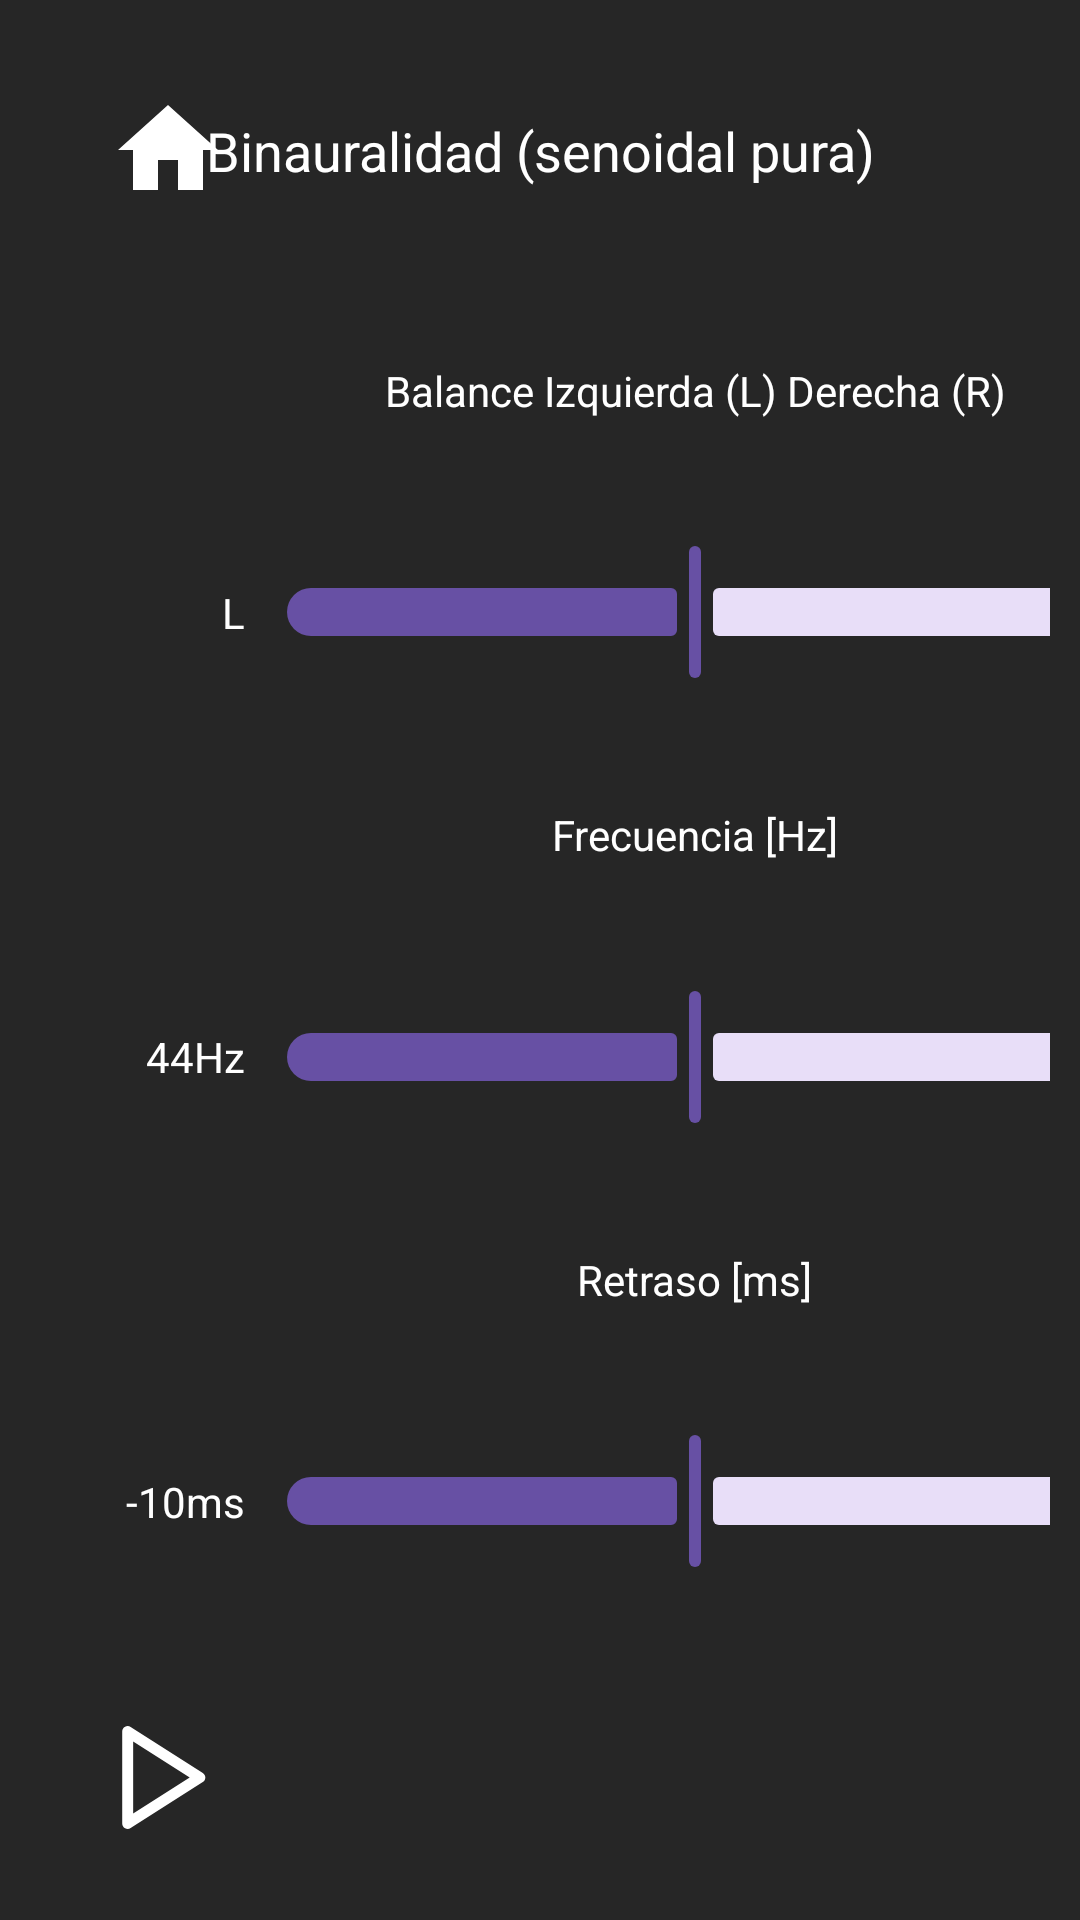

Icon click points for this 1080w x 1920h phone screenshot, format point (x, y):
Reproducir o pausar: point (164, 1777)
